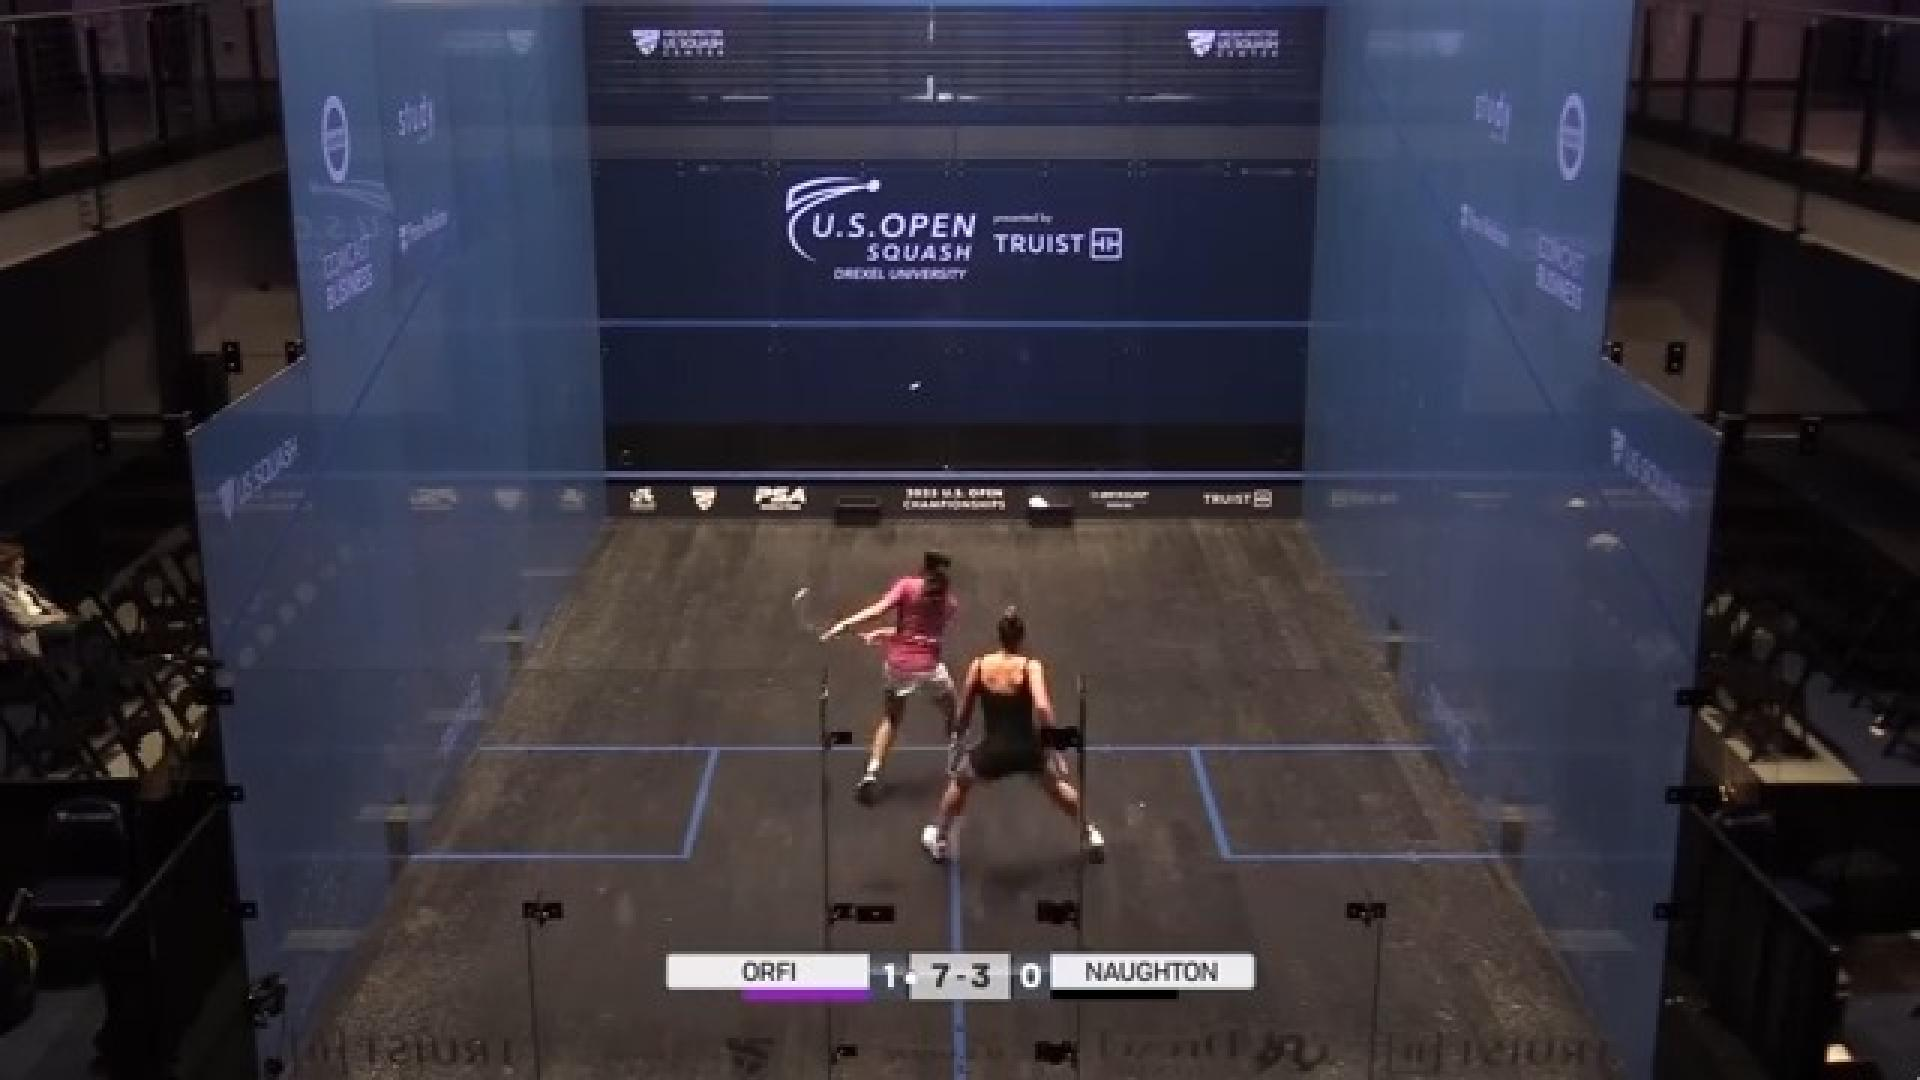Squash-Ball: (878, 376, 938, 406)
